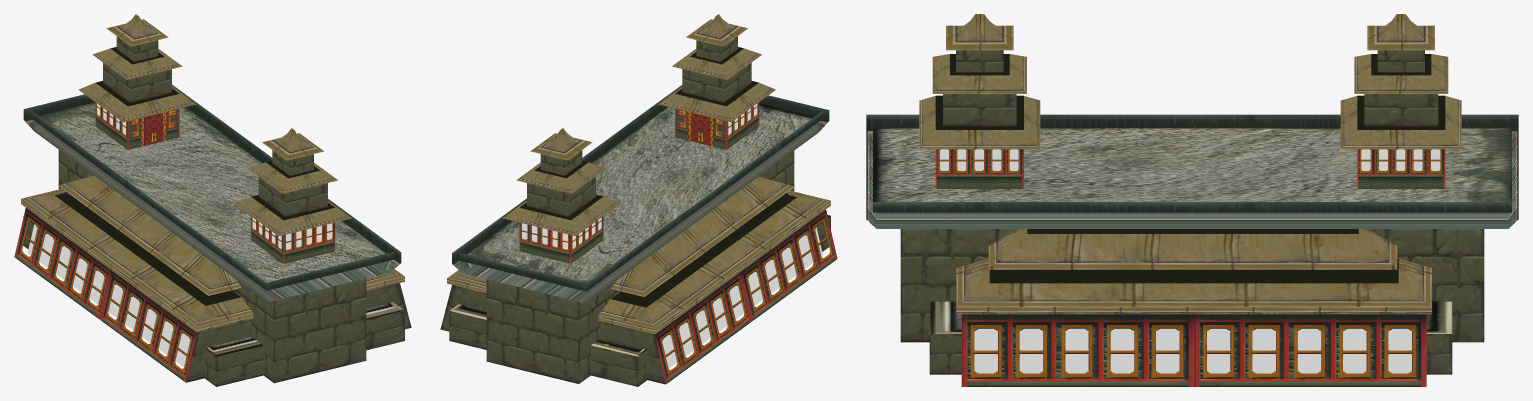
The model's file is l_guardhouse_hdtex.glb.
3 views of the same model, side by side, from view 1: azimuth 30°, elevation 25°; view 2: azimuth 150°, elevation 25°; view 3: azimuth 270°, elevation 25° (orthographic). The views are drawn at different scales.
Parts seen in each view (by area): view 1: Gaurd House, Litwin_gh_; view 2: Gaurd House, Litwin_gh_; view 3: Gaurd House, Litwin_gh_.
Part boxes in pixels (box(x1,y1,x2,y2)): Gaurd House: box(14, 14, 411, 386); Litwin_gh_: box(27, 103, 332, 367); Gaurd House: box(440, 14, 837, 386); Litwin_gh_: box(522, 104, 822, 368); Gaurd House: box(866, 14, 1518, 386); Litwin_gh_: box(940, 149, 1440, 373).
Size of the model in its own units: 18.64 by 17.45 by 34.49.
6 materials, 6 textured.
